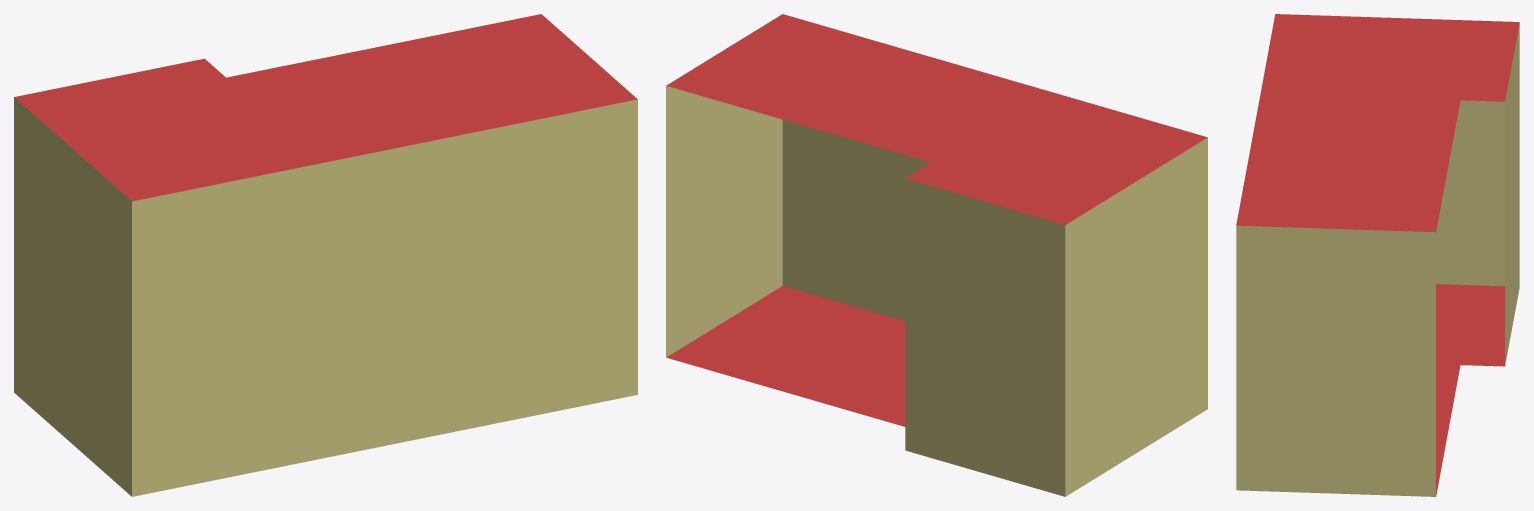
3 renders of one model, left to right at view 1: azimuth 30°, elevation 25°; view 2: azimuth 150°, elevation 25°; view 3: azimuth 270°, elevation 25°, orthographic. The views are drawn at different scales.
Bounding box in the file's own units: 13.48 × 7.4 × 7.63.
